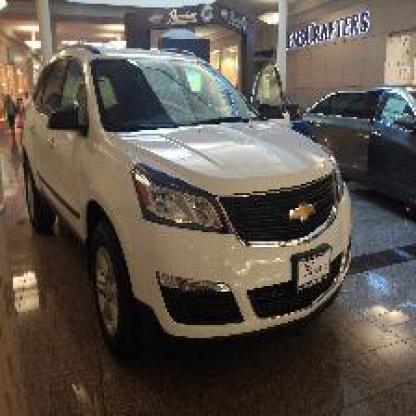not_emergency: (2, 28, 386, 366)
